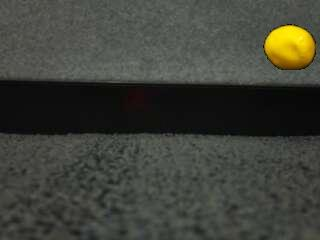Lemon: (263, 24, 317, 71)
